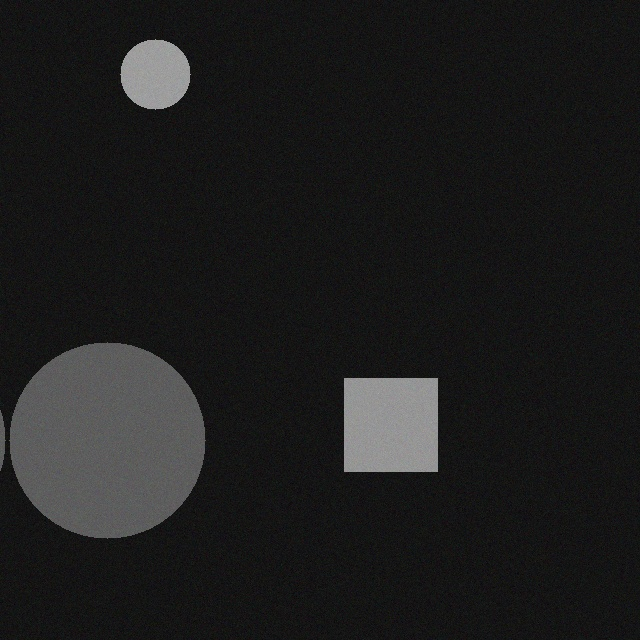circle: (2, 352, 198, 548), (113, 49, 183, 119)
square: (337, 388, 430, 481)
